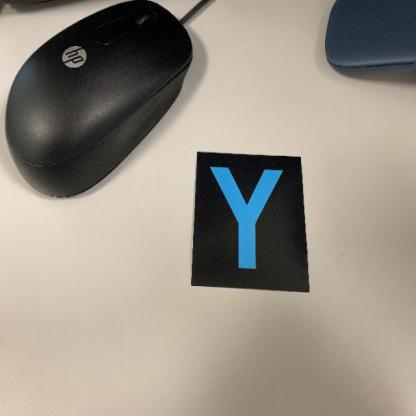y: (191, 149, 311, 298)
